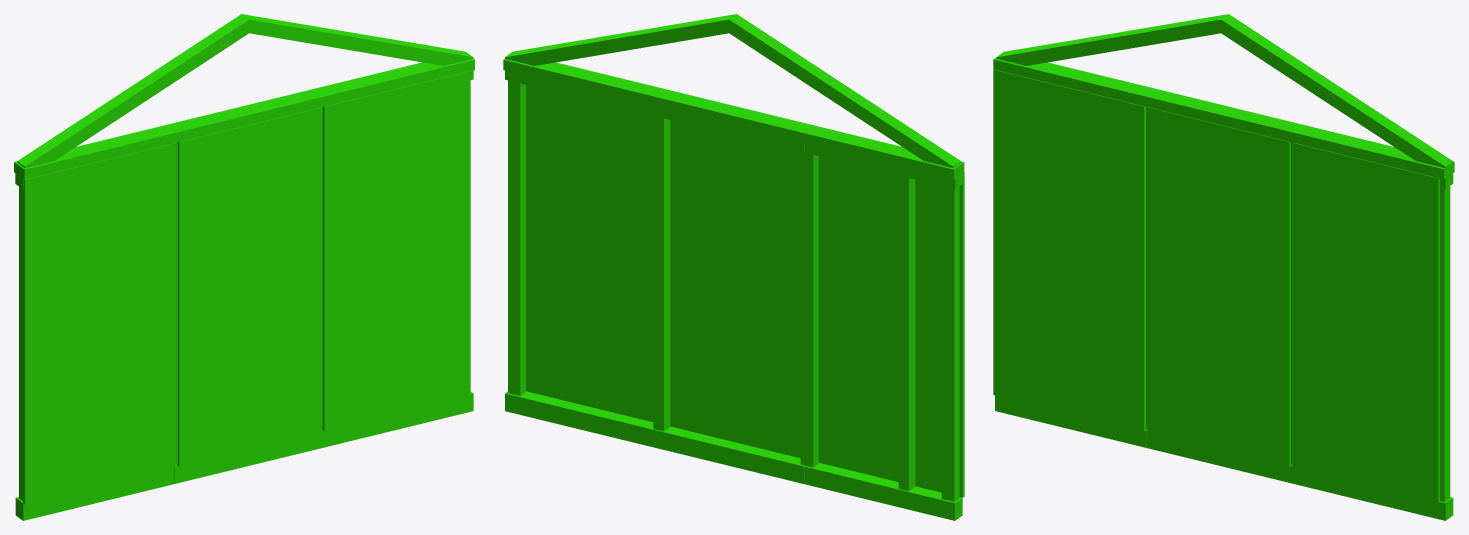
The model's file is HT_02_Wall_04.fbx.
3 views of the same model, side by side, from view 1: azimuth 30°, elevation 25°; view 2: azimuth 150°, elevation 25°; view 3: azimuth 330°, elevation 25° (orthographic).
Visible parts, largest first — view 1: HT_02_Wall_04; view 2: HT_02_Wall_04; view 3: HT_02_Wall_04.
Part boxes in pixels (<box>): HT_02_Wall_04: <box>14,14,474,520</box>; HT_02_Wall_04: <box>503,14,964,520</box>; HT_02_Wall_04: <box>993,14,1454,520</box>.
Bounding box in the file's own units: 407 × 385 × 16.9.
